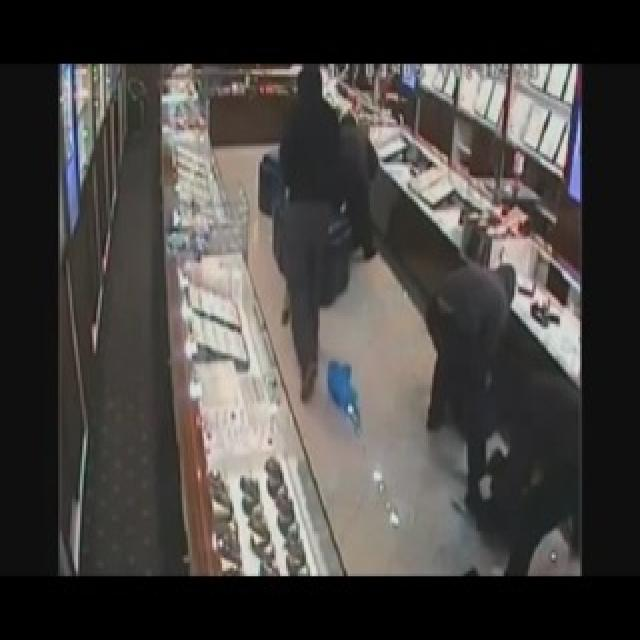thief: (435, 234, 579, 566), (280, 69, 378, 314)
